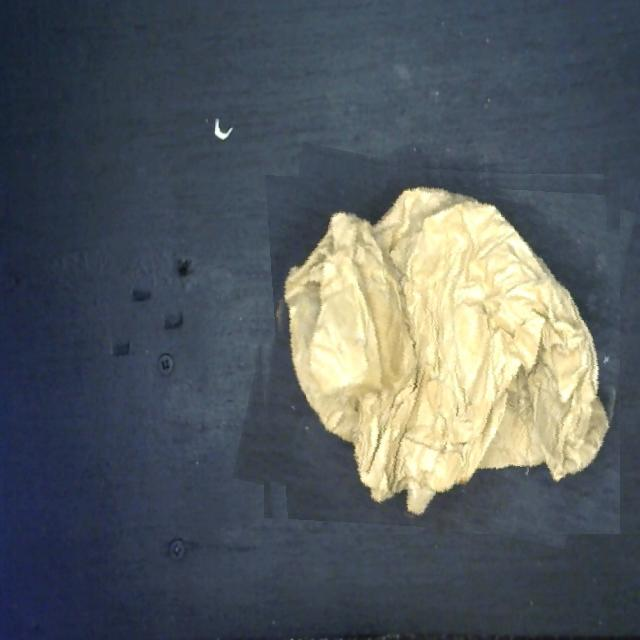biodegradable: (248, 158, 620, 534)
